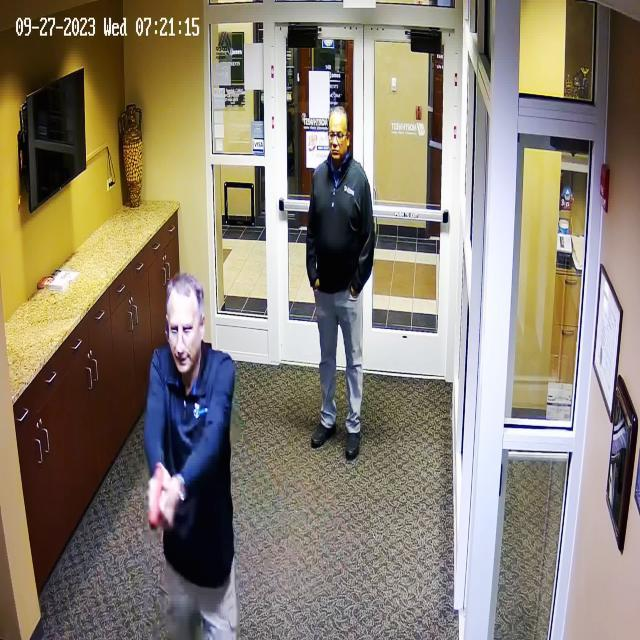Gun: (136, 460, 183, 530)
